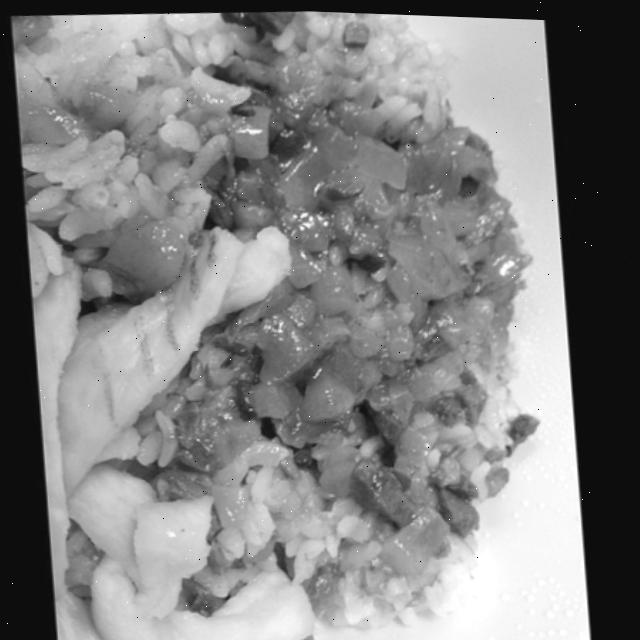猪肉菜式: (2, 0, 561, 640)
